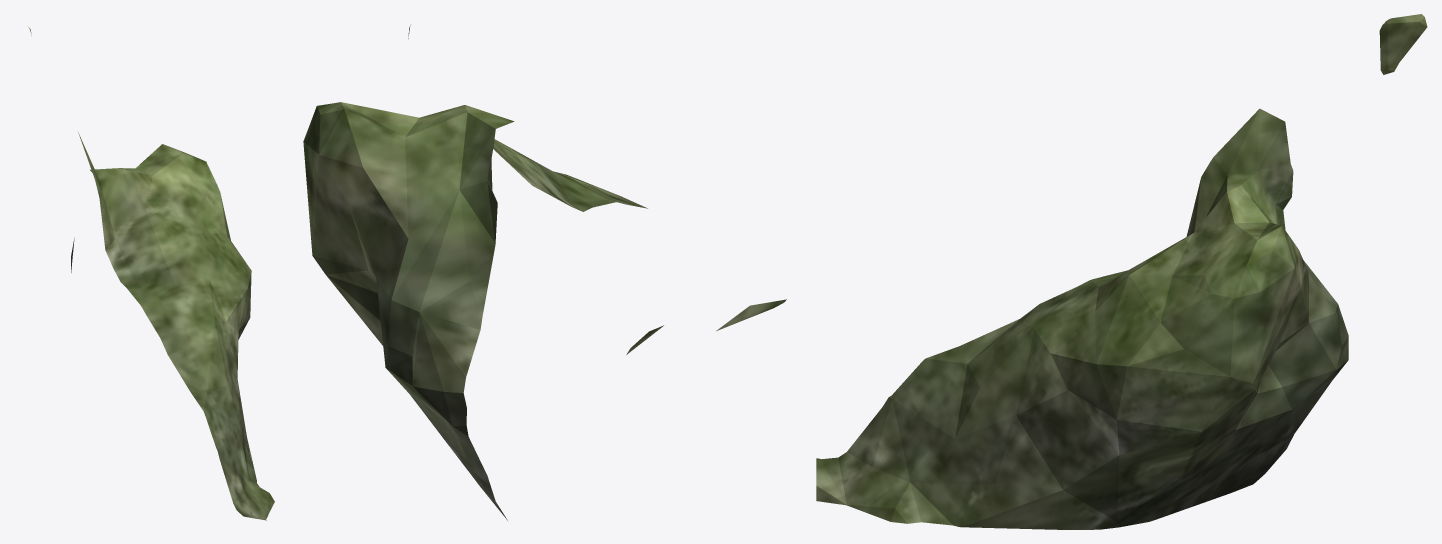
The picture shows the model from 3 angles, left to right: view 1: azimuth 30°, elevation 25°; view 2: azimuth 150°, elevation 25°; view 3: azimuth 270°, elevation 25°; orthographic projection. The views are drawn at different scales.
Size of the model in its own units: 0.574 by 1.49 by 1.76.
1 material, 1 textured.
